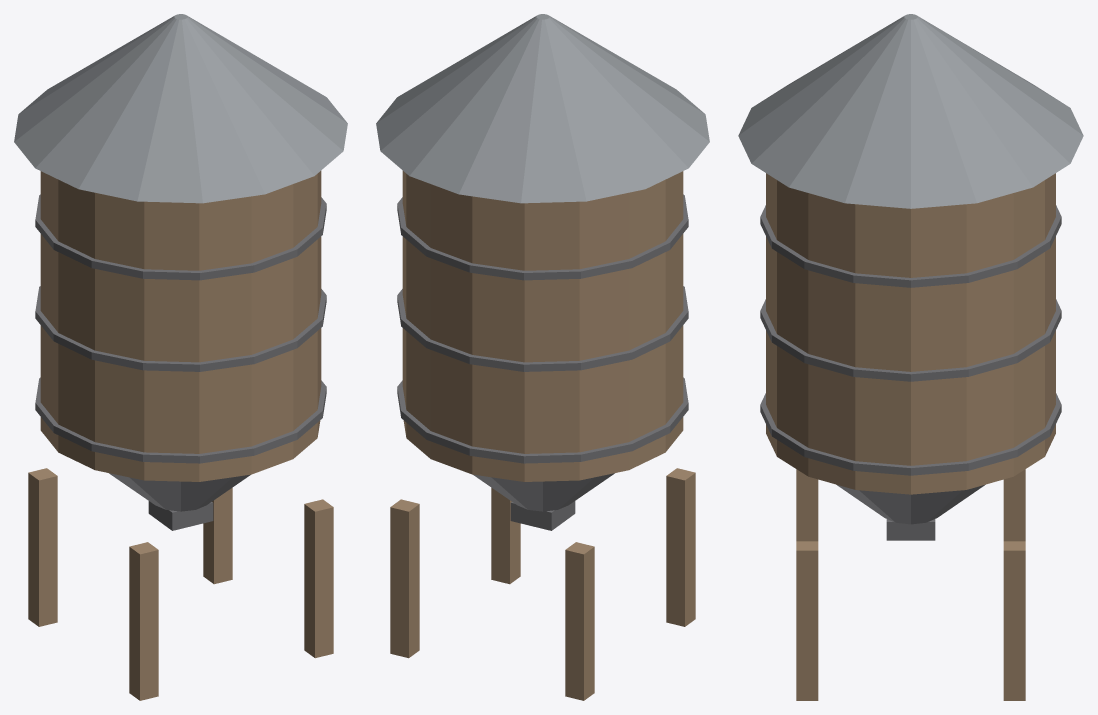
Rendered from flour_silo.glb.
The picture shows the model from 3 angles, left to right: view 1: azimuth 30°, elevation 25°; view 2: azimuth 150°, elevation 25°; view 3: azimuth 270°, elevation 25°; orthographic projection. The views are drawn at different scales.
Visible parts, largest first — view 1: Cylinder, Cone.001, Cube, Cube.001, Cube.002, Cylinder.001, Cylinder.003, Cylinder.002, Cone, Cube.003, Cube.004; view 2: Cylinder, Cone.001, Cube, Cube.001, Cube.003, Cylinder.001, Cylinder.003, Cylinder.002, Cone, Cube.002, Cube.004; view 3: Cylinder, Cone.001, Cube.002, Cube.003, Cylinder.001, Cylinder.003, Cylinder.002, Cone, Cube, Cube.001, Cube.004.
Boxes of the visible parts, x1=… form: Cylinder: x1=40, y1=171, x2=321, y2=481; Cone.001: x1=14, y1=14, x2=347, y2=203; Cube: x1=129, y1=542, x2=158, y2=700; Cube.001: x1=28, y1=468, x2=57, y2=626; Cube.002: x1=304, y1=499, x2=333, y2=658; Cylinder.001: x1=35, y1=377, x2=326, y2=463; Cylinder.003: x1=35, y1=194, x2=326, y2=280; Cylinder.002: x1=35, y1=286, x2=326, y2=371; Cone: x1=109, y1=473, x2=250, y2=511; Cube.003: x1=203, y1=487, x2=232, y2=584; Cube.004: x1=148, y1=501, x2=213, y2=530; Cylinder: x1=402, y1=171, x2=683, y2=481; Cone.001: x1=376, y1=14, x2=709, y2=203; Cube: x1=666, y1=468, x2=695, y2=626; Cube.001: x1=565, y1=542, x2=594, y2=700; Cube.003: x1=390, y1=499, x2=419, y2=658; Cylinder.001: x1=397, y1=377, x2=688, y2=463; Cylinder.003: x1=397, y1=194, x2=688, y2=280; Cylinder.002: x1=397, y1=286, x2=688, y2=371; Cone: x1=473, y1=473, x2=614, y2=511; Cube.002: x1=491, y1=487, x2=520, y2=584; Cube.004: x1=510, y1=501, x2=575, y2=530; Cylinder: x1=766, y1=173, x2=1055, y2=494; Cone.001: x1=738, y1=14, x2=1083, y2=208; Cube.002: x1=796, y1=541, x2=818, y2=700; Cube.003: x1=1003, y1=541, x2=1025, y2=700; Cylinder.001: x1=760, y1=393, x2=1061, y2=475; Cylinder.003: x1=760, y1=205, x2=1061, y2=287; Cylinder.002: x1=760, y1=299, x2=1061, y2=381; Cone: x1=836, y1=484, x2=985, y2=524; Cube: x1=796, y1=469, x2=818, y2=541; Cube.001: x1=1003, y1=469, x2=1025, y2=541; Cube.004: x1=886, y1=519, x2=935, y2=540.
Size of the model in its own units: 2.5 by 5.07 by 2.5.
